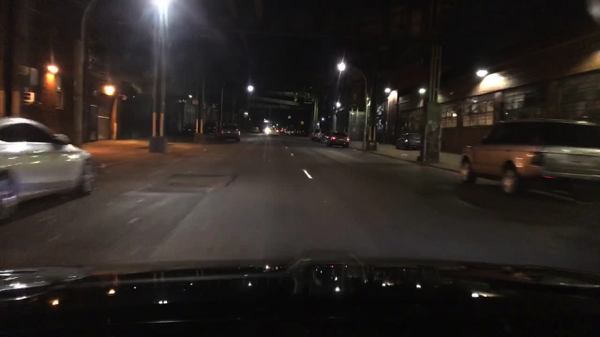car: (457, 118, 598, 199), (0, 115, 96, 222), (395, 132, 425, 152), (324, 131, 351, 150), (218, 123, 242, 144), (182, 123, 198, 138), (202, 120, 219, 134), (264, 126, 281, 137), (318, 131, 331, 145), (310, 127, 321, 142), (250, 126, 260, 134), (290, 129, 297, 136), (287, 129, 292, 136), (229, 261, 241, 263)
traffic light: (275, 121, 279, 127)
traffic sign: (298, 119, 304, 126)
